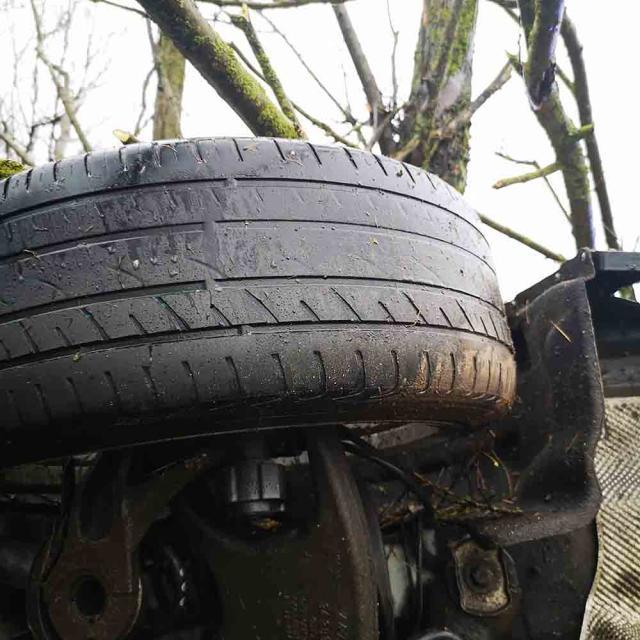Flat spots: (0, 194, 464, 287)
